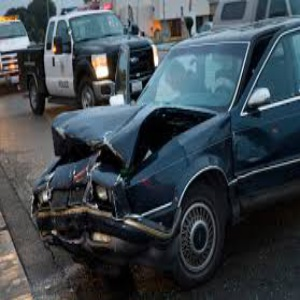bonnet: (59, 105, 168, 151)
bumper: (67, 178, 178, 271)
